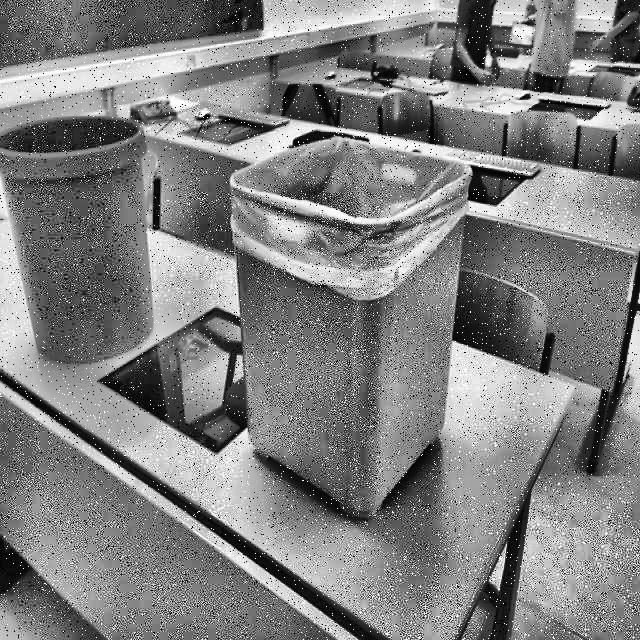Dustbin: (212, 101, 494, 536), (0, 100, 161, 371)
